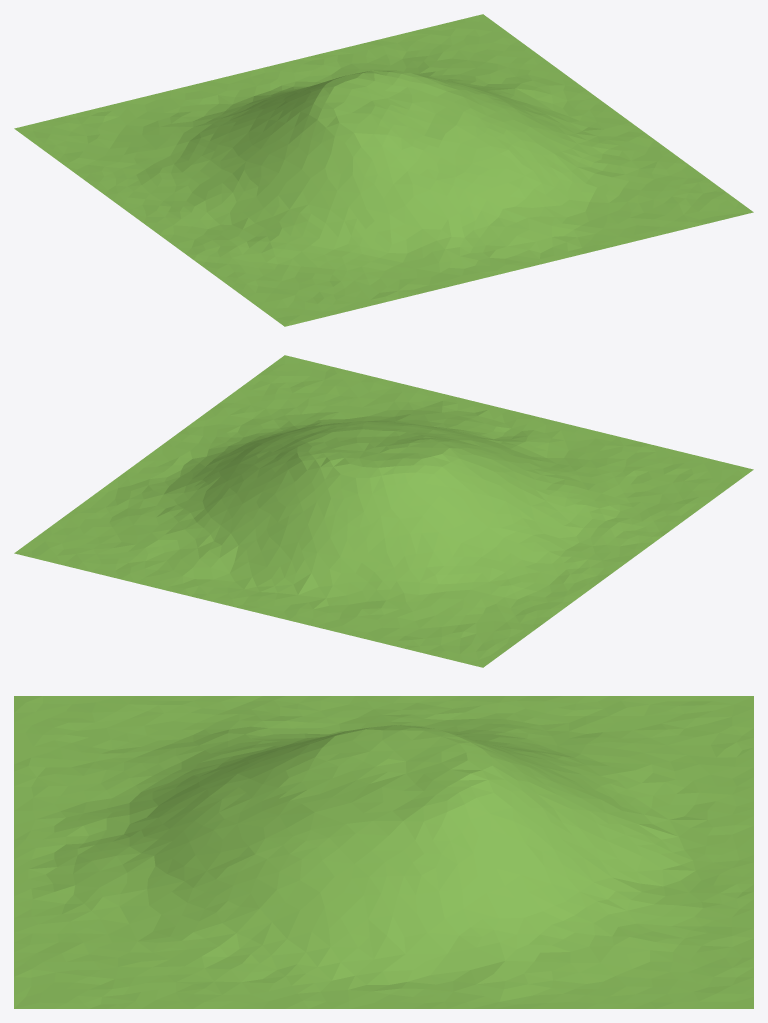
Rendered from MT_Terrain_L_a_10_LOD.fbx.
3 renders of one model, top to bottom at view 1: azimuth 30°, elevation 25°; view 2: azimuth 150°, elevation 25°; view 3: azimuth 270°, elevation 25°, orthographic. The views are drawn at different scales.
Visible parts, largest first — view 1: MT_Terrain_L_a_10_LOD0; view 2: MT_Terrain_L_a_10_LOD0; view 3: MT_Terrain_L_a_10_LOD0.
Part boxes in pixels (x1=…): MT_Terrain_L_a_10_LOD0: x1=14, y1=14, x2=753, y2=326; MT_Terrain_L_a_10_LOD0: x1=14, y1=355, x2=753, y2=667; MT_Terrain_L_a_10_LOD0: x1=14, y1=696, x2=753, y2=1008.
Size of what is drawn, in the model's own units: 10000 by 1427 by 10000.
